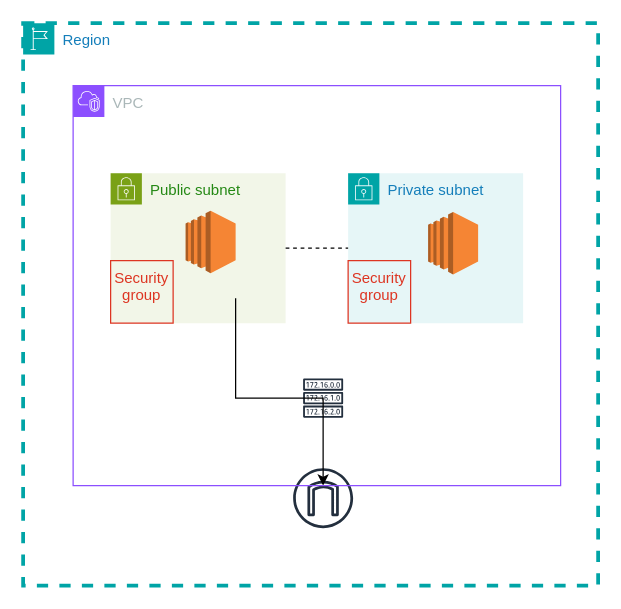
The diagram is 621 pixels wide and 609 high, and some of its shapes have lost their labels. The shapes that lost their labels are listed below. From the top down, each one's centre as x and y in pixels, then its label:
At (x=322, y=397): "Route table".
At (x=322, y=497): "Internet gateway".
